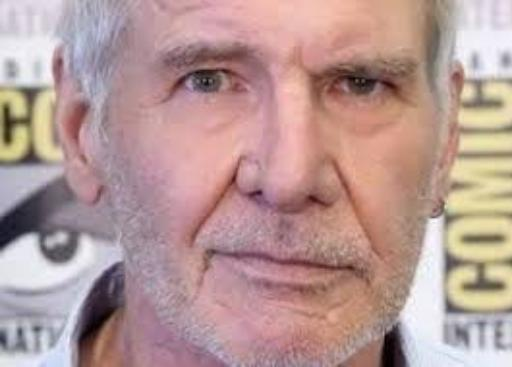left_eye: (326, 76, 401, 101)
left_lip_corner: (323, 259, 365, 278)
right_eye: (169, 66, 254, 99)
right_lip_corner: (193, 244, 241, 265)
